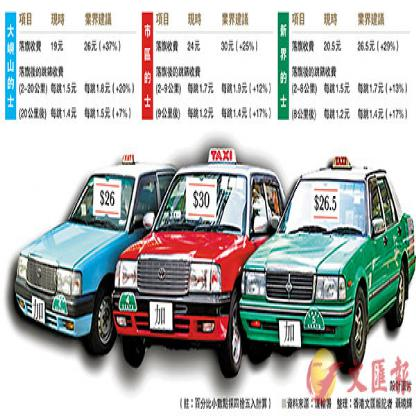taxi: (113, 145, 290, 390), (241, 148, 416, 368)
